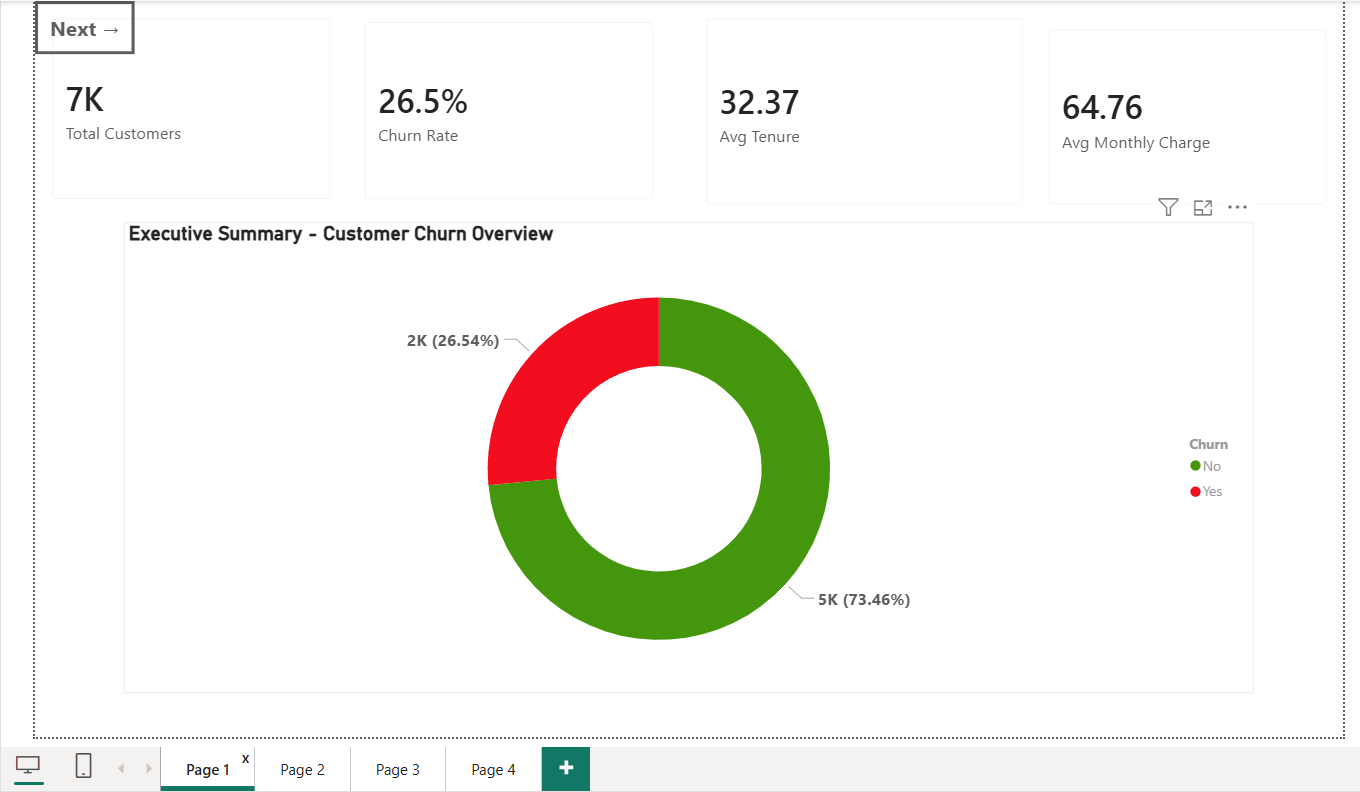

The page's visual inventory and layout, read from the dashboard file:
{"tool":"powerbi","page":{"name":"Page 1","canvas":[1280,720],"ordinal":0},"visuals":[{"type":"cardVisual","fields":{"Data":["Telco-Customer-Churn - WA_Fn-UseC_-Telco-Customer-Churn.Total Customers"]},"box":[0,0,306,211.3],"z":0},{"type":"cardVisual","fields":{"Data":["Telco-Customer-Churn - WA_Fn-UseC_-Telco-Customer-Churn.Churn Rate"]},"box":[306,4.1,317,207.2],"z":1000},{"type":"cardVisual","fields":{"Data":["Telco-Customer-Churn - WA_Fn-UseC_-Telco-Customer-Churn.Avg Tenure"]},"box":[639.5,0,344.4,216.8],"z":2000},{"type":"cardVisual","fields":{"Data":["Telco-Customer-Churn - WA_Fn-UseC_-Telco-Customer-Churn.Avg Monthly Charge"]},"box":[974.3,11,306,205.8],"z":3000},{"type":"donutChart","title":"Executive Summary - Customer Churn Overview","fields":{"Category":["Telco-Customer-Churn - WA_Fn-UseC_-Telco-Customer-Churn.Churn"],"Y":["Telco-Customer-Churn - WA_Fn-UseC_-Telco-Customer-Churn.Total Customers"]},"box":[69.7,216.4,1105.4,461],"z":4000},{"type":"actionButton","box":[0,0,97.4,52.1],"z":5000}]}

Visuals, with their boxes on the page's 1280x720 design canvas (x1, y1, x2, y2). These are canvas units, not pixel positions in the 1360x792 screenshot, which may show the page scaled, cropped or inside an application window:
cardVisual - Telco-Customer-Churn - WA_Fn-UseC_-Telco-Customer-Churn.Total Customers: [0,0,306,211]
cardVisual - Telco-Customer-Churn - WA_Fn-UseC_-Telco-Customer-Churn.Churn Rate: [306,4,623,211]
cardVisual - Telco-Customer-Churn - WA_Fn-UseC_-Telco-Customer-Churn.Avg Tenure: [640,0,984,217]
cardVisual - Telco-Customer-Churn - WA_Fn-UseC_-Telco-Customer-Churn.Avg Monthly Charge: [974,11,1280,217]
"Executive Summary - Customer Churn Overview" donutChart: [70,216,1175,677]
actionButton: [0,0,97,52]
